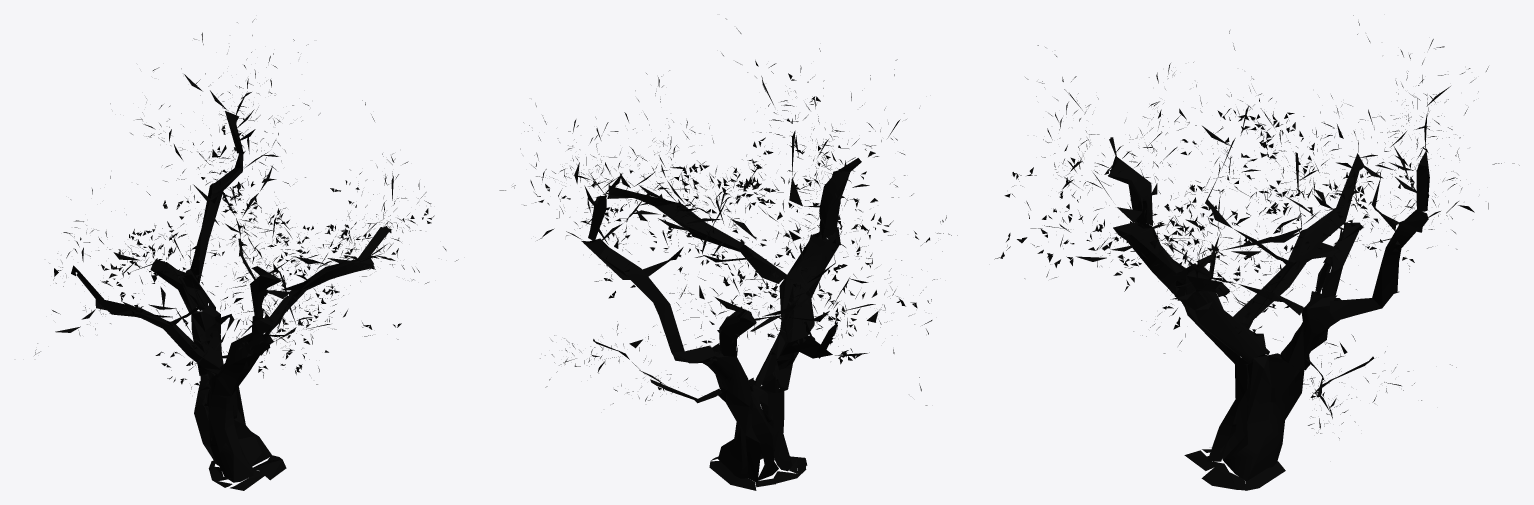
File: Broad_Oak_C.glb
3 renders of one model, left to right at view 1: azimuth 30°, elevation 25°; view 2: azimuth 150°, elevation 25°; view 3: azimuth 270°, elevation 25°, orthographic. The views are drawn at different scales.
Visible parts, largest first — view 1: tree; view 2: tree; view 3: tree.
Boxes of the visible parts, left/top/right/bottom form: tree: left=34, top=19, right=458, bottom=490; tree: left=499, top=18, right=957, bottom=490; tree: left=994, top=15, right=1519, bottom=490.
Bounding box in the file's own units: 4.8 × 4.69 × 4.67.
1 material, 1 textured.
